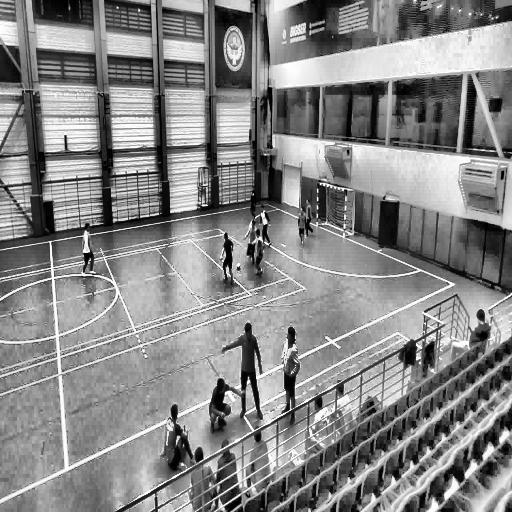ball: (236, 264, 242, 272)
player: (238, 320, 262, 420), (163, 403, 192, 478), (187, 446, 219, 512), (209, 377, 245, 435), (244, 423, 273, 490), (281, 324, 300, 422), (304, 390, 331, 454), (216, 440, 242, 505), (330, 374, 356, 432), (244, 218, 259, 268), (82, 222, 96, 275), (221, 231, 234, 285), (258, 202, 272, 251), (253, 228, 265, 278), (304, 197, 316, 240), (296, 206, 306, 246), (248, 183, 257, 222)
